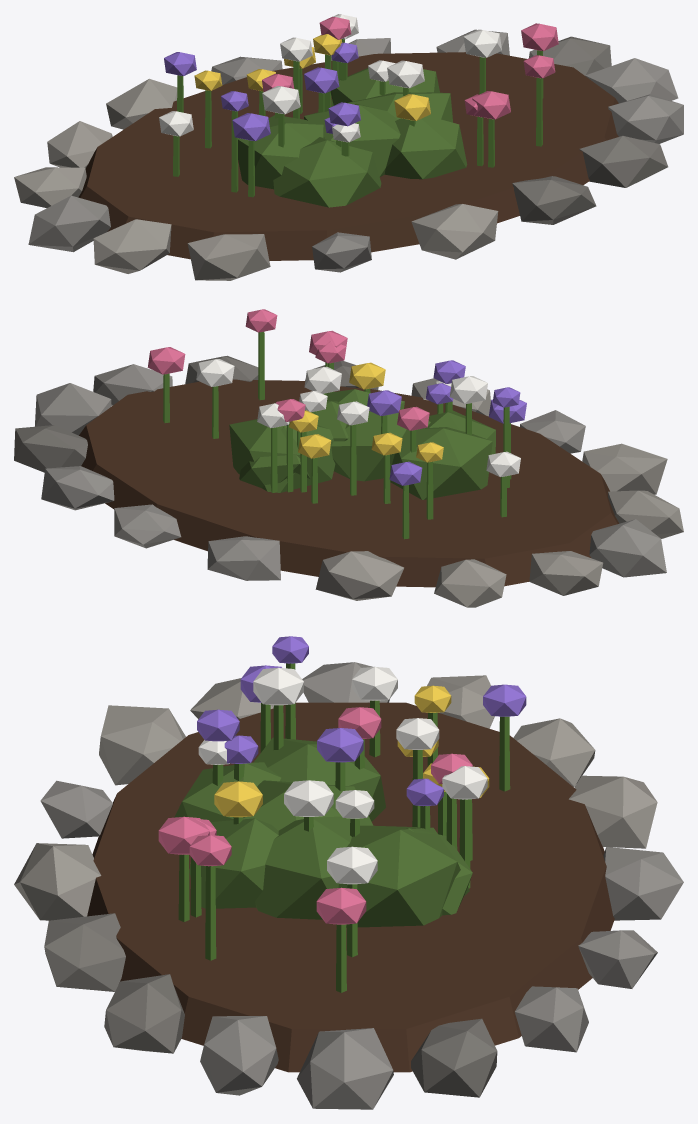
The model's file is flowerbed.glb.
3 views of the same model, one above another, from view 1: azimuth 30°, elevation 25°; view 2: azimuth 150°, elevation 25°; view 3: azimuth 270°, elevation 25° (orthographic). The views are drawn at different scales.
Visible parts, largest first — view 1: flowerbed; view 2: flowerbed; view 3: flowerbed.
Boxes of the visible parts, x1,y1,x2,y2 form: flowerbed: (14,14,683,280); flowerbed: (14,309,683,607); flowerbed: (14,636,683,1109).
Bounding box in the file's own units: 2.17 × 0.4606 × 1.44.
